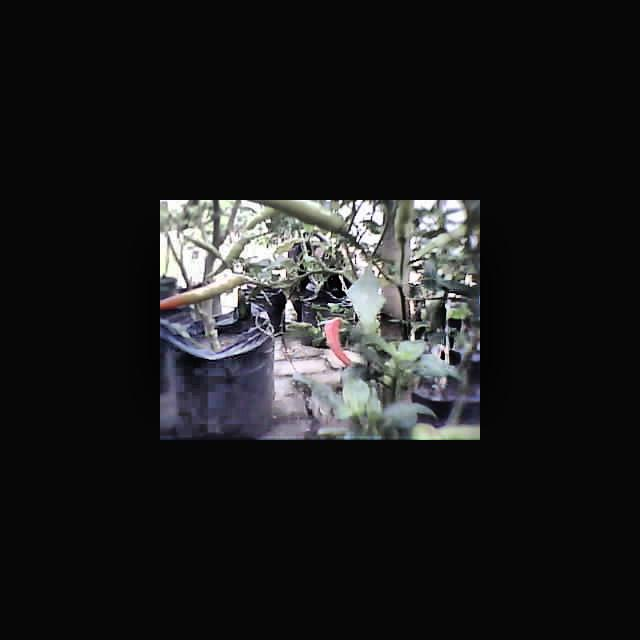Cabai: (160, 273, 266, 327), (320, 314, 355, 370)
